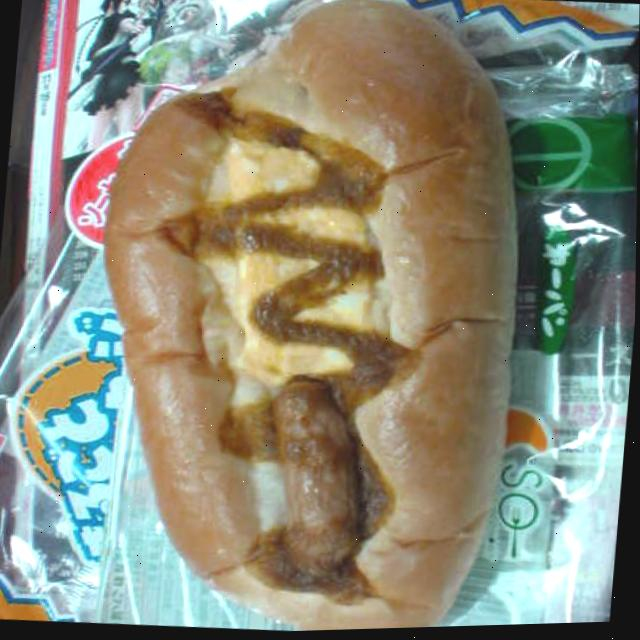三明治: (86, 0, 522, 638)
